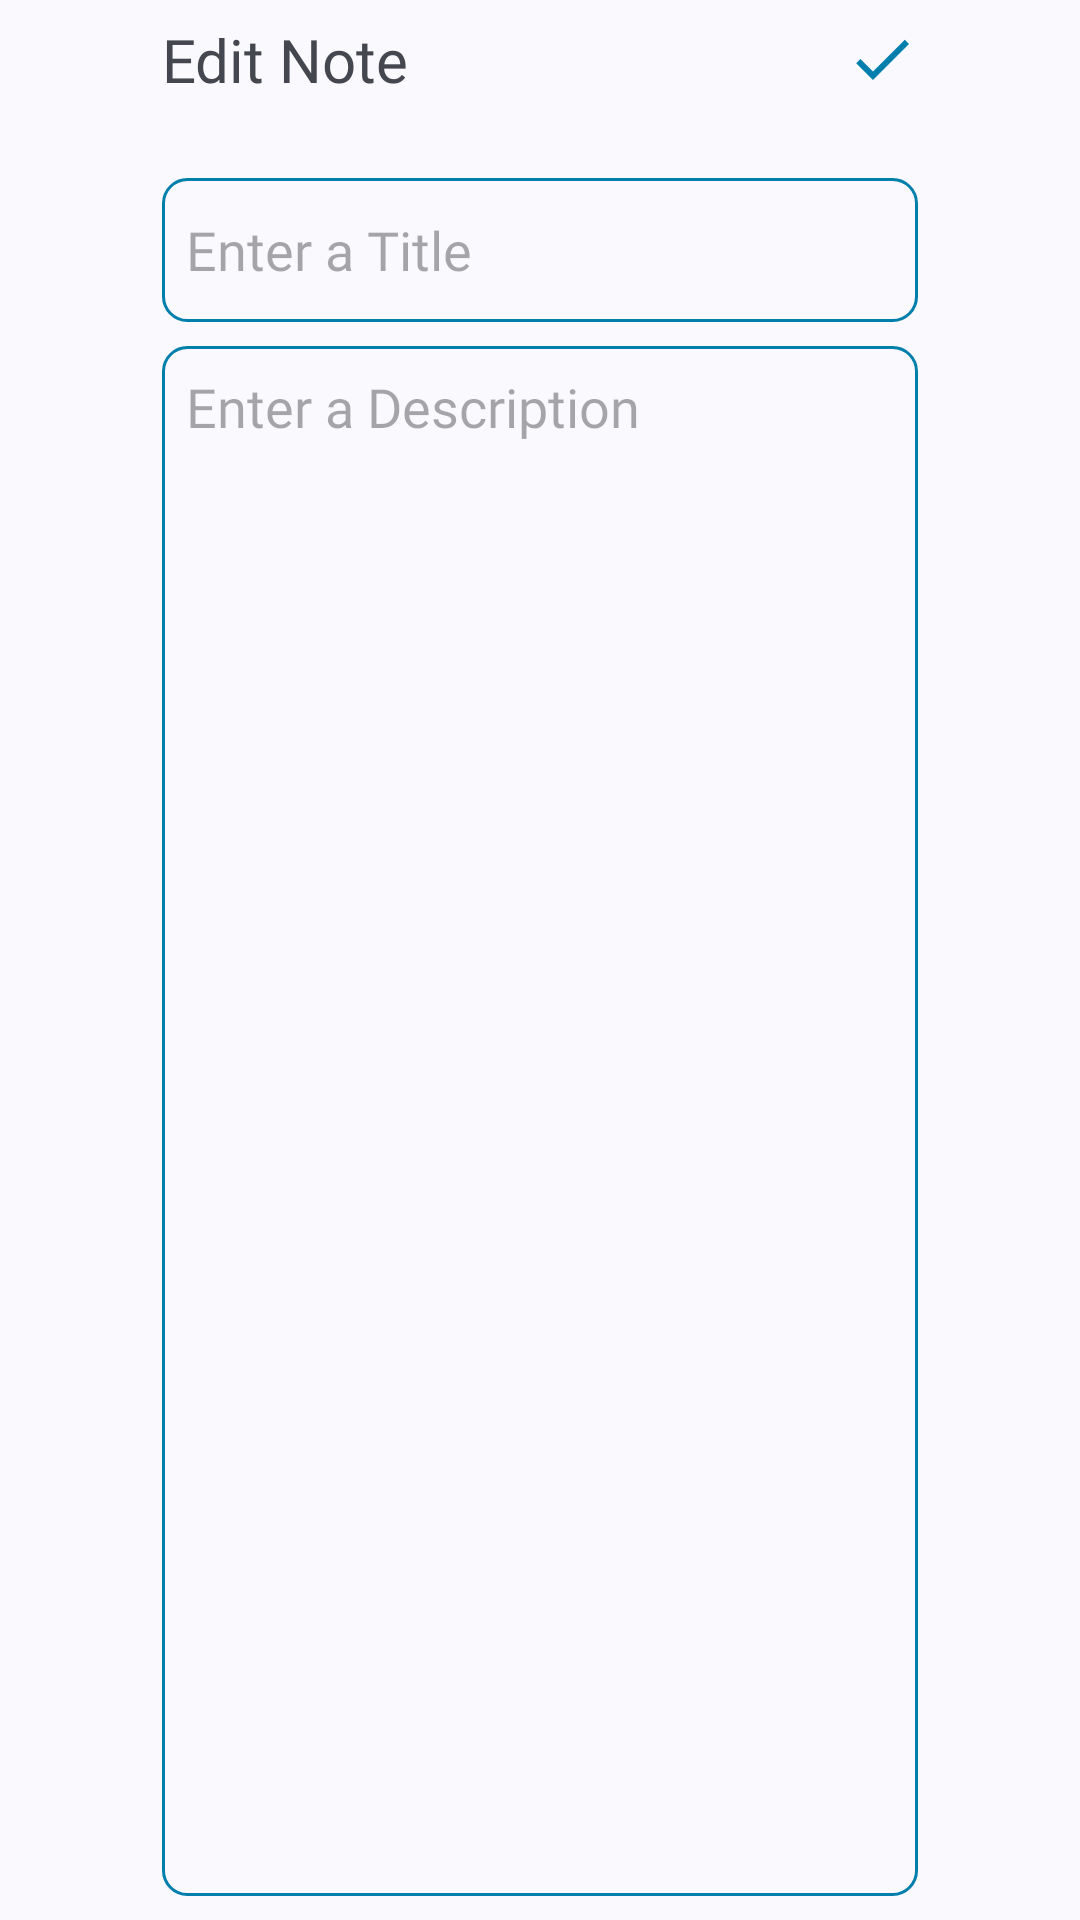

Named icons in this screenshot (1080 x 1920) and their bounding boxes, (x1, y1, x2, y2):
done: (856, 40, 909, 80)
